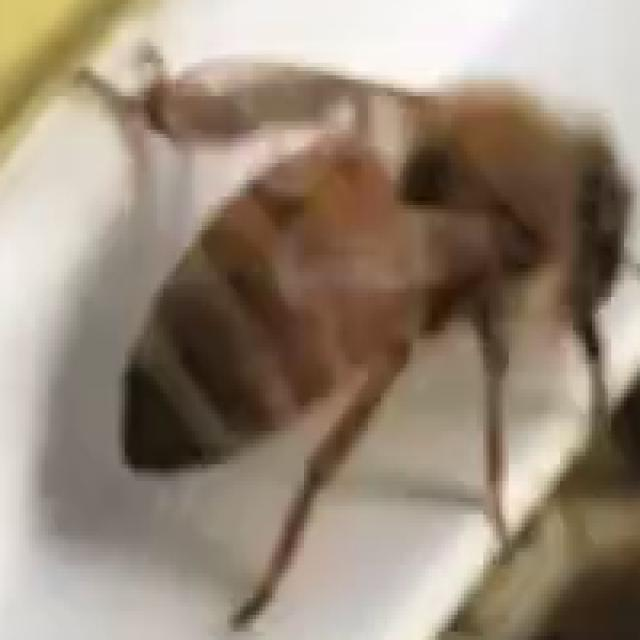honeybee: (78, 55, 622, 597)
